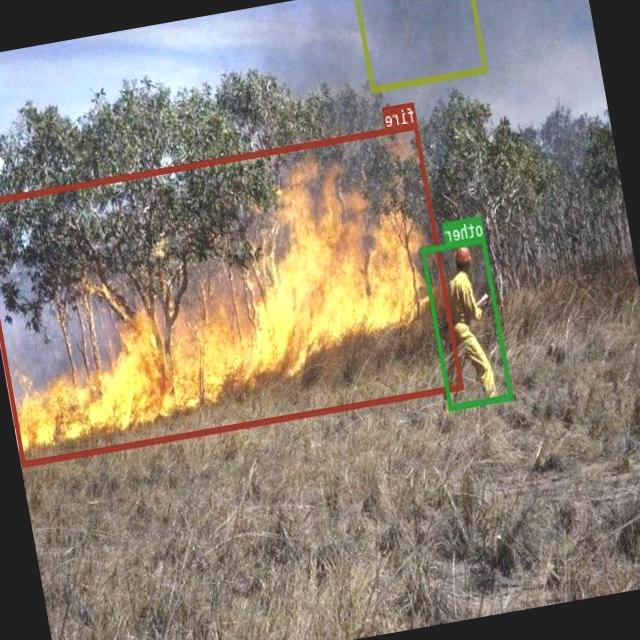fire: (0, 121, 464, 466)
smoke: (355, 0, 488, 90)
